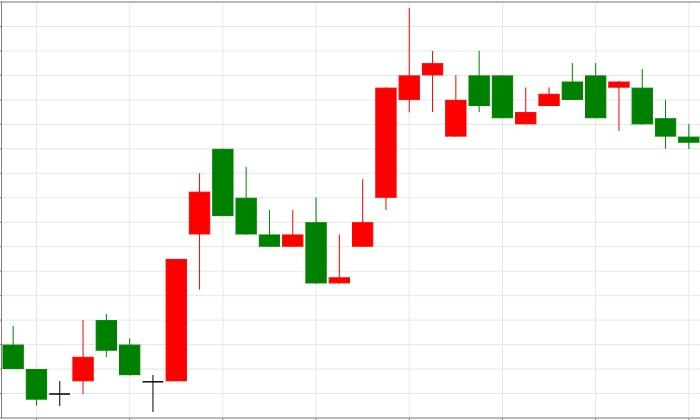shooting_star_fall: (329, 8, 421, 284)
